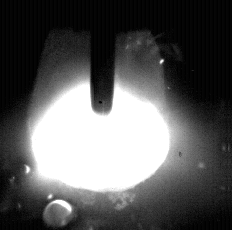arame: (92, 0, 116, 114)
poca: (29, 0, 172, 230)
